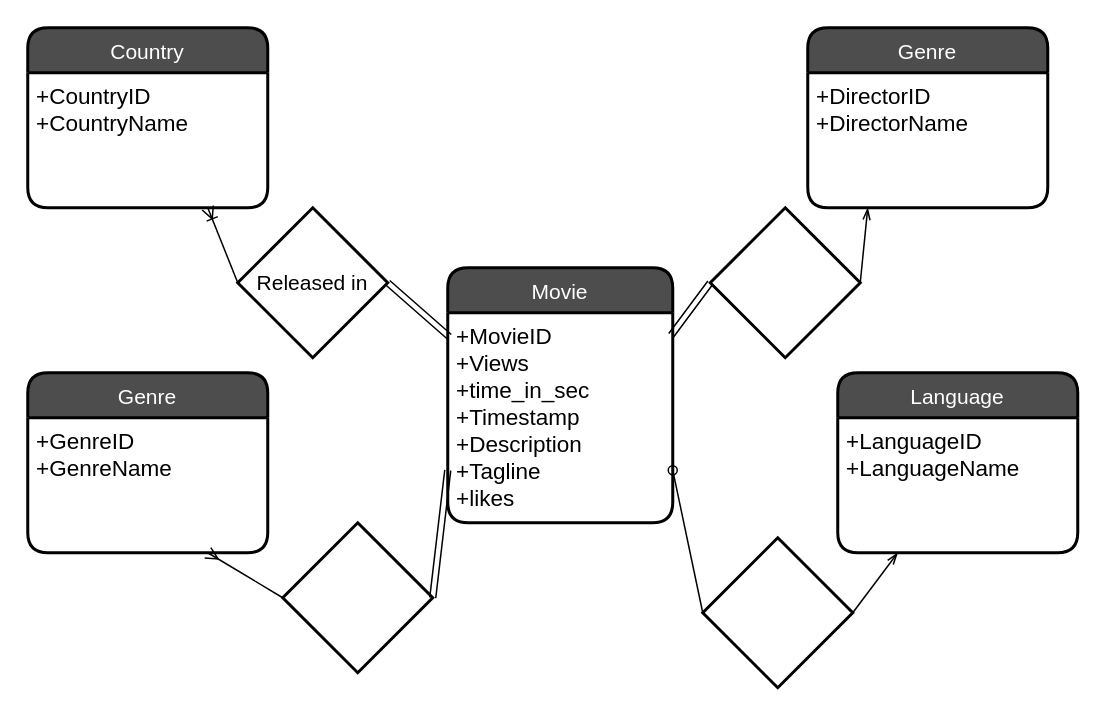
Some shapes in this 1104 by 714 pixel diagram are drawn without their labels. The centre of each missing label's shape, as x and y in pixels:
Belongs to: the point at 357,597
Directed by: the point at 784,282
Made in: the point at 777,612
